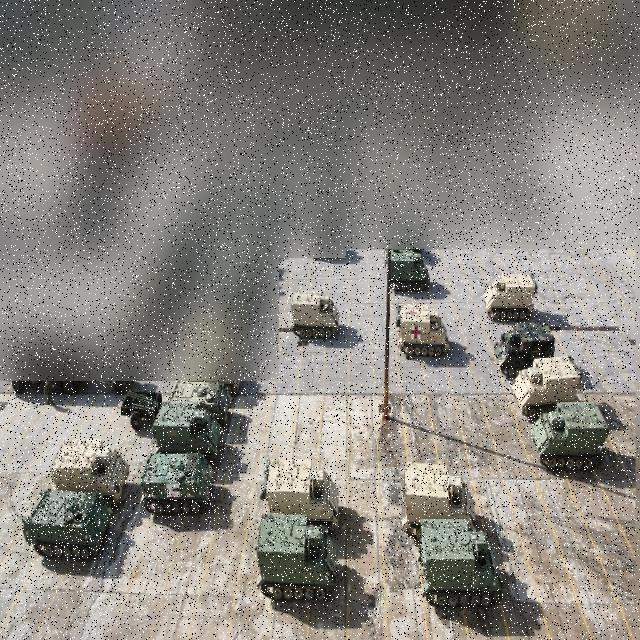MIL_MBT: (493, 325, 589, 427), (418, 518, 505, 608), (255, 513, 337, 600), (21, 490, 113, 560), (529, 399, 609, 470), (265, 458, 339, 528), (140, 451, 215, 514), (49, 438, 125, 499), (152, 404, 226, 461), (394, 302, 450, 357), (482, 273, 538, 321), (290, 287, 340, 340), (385, 249, 430, 293)
